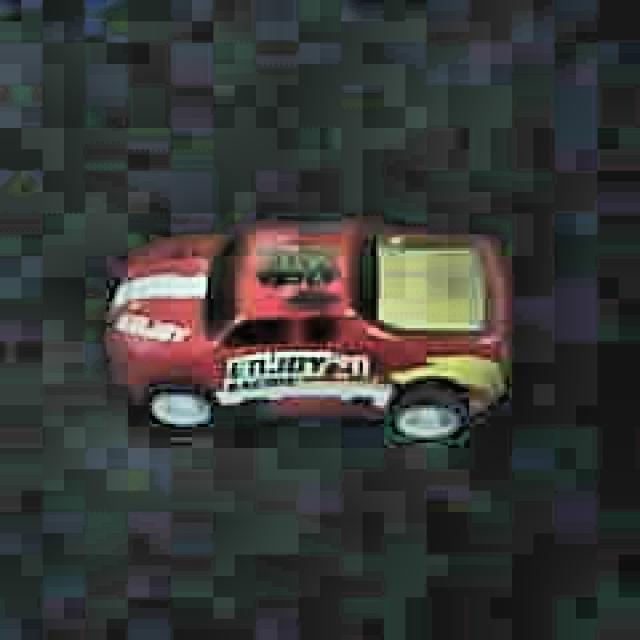car: (97, 215, 520, 447)
